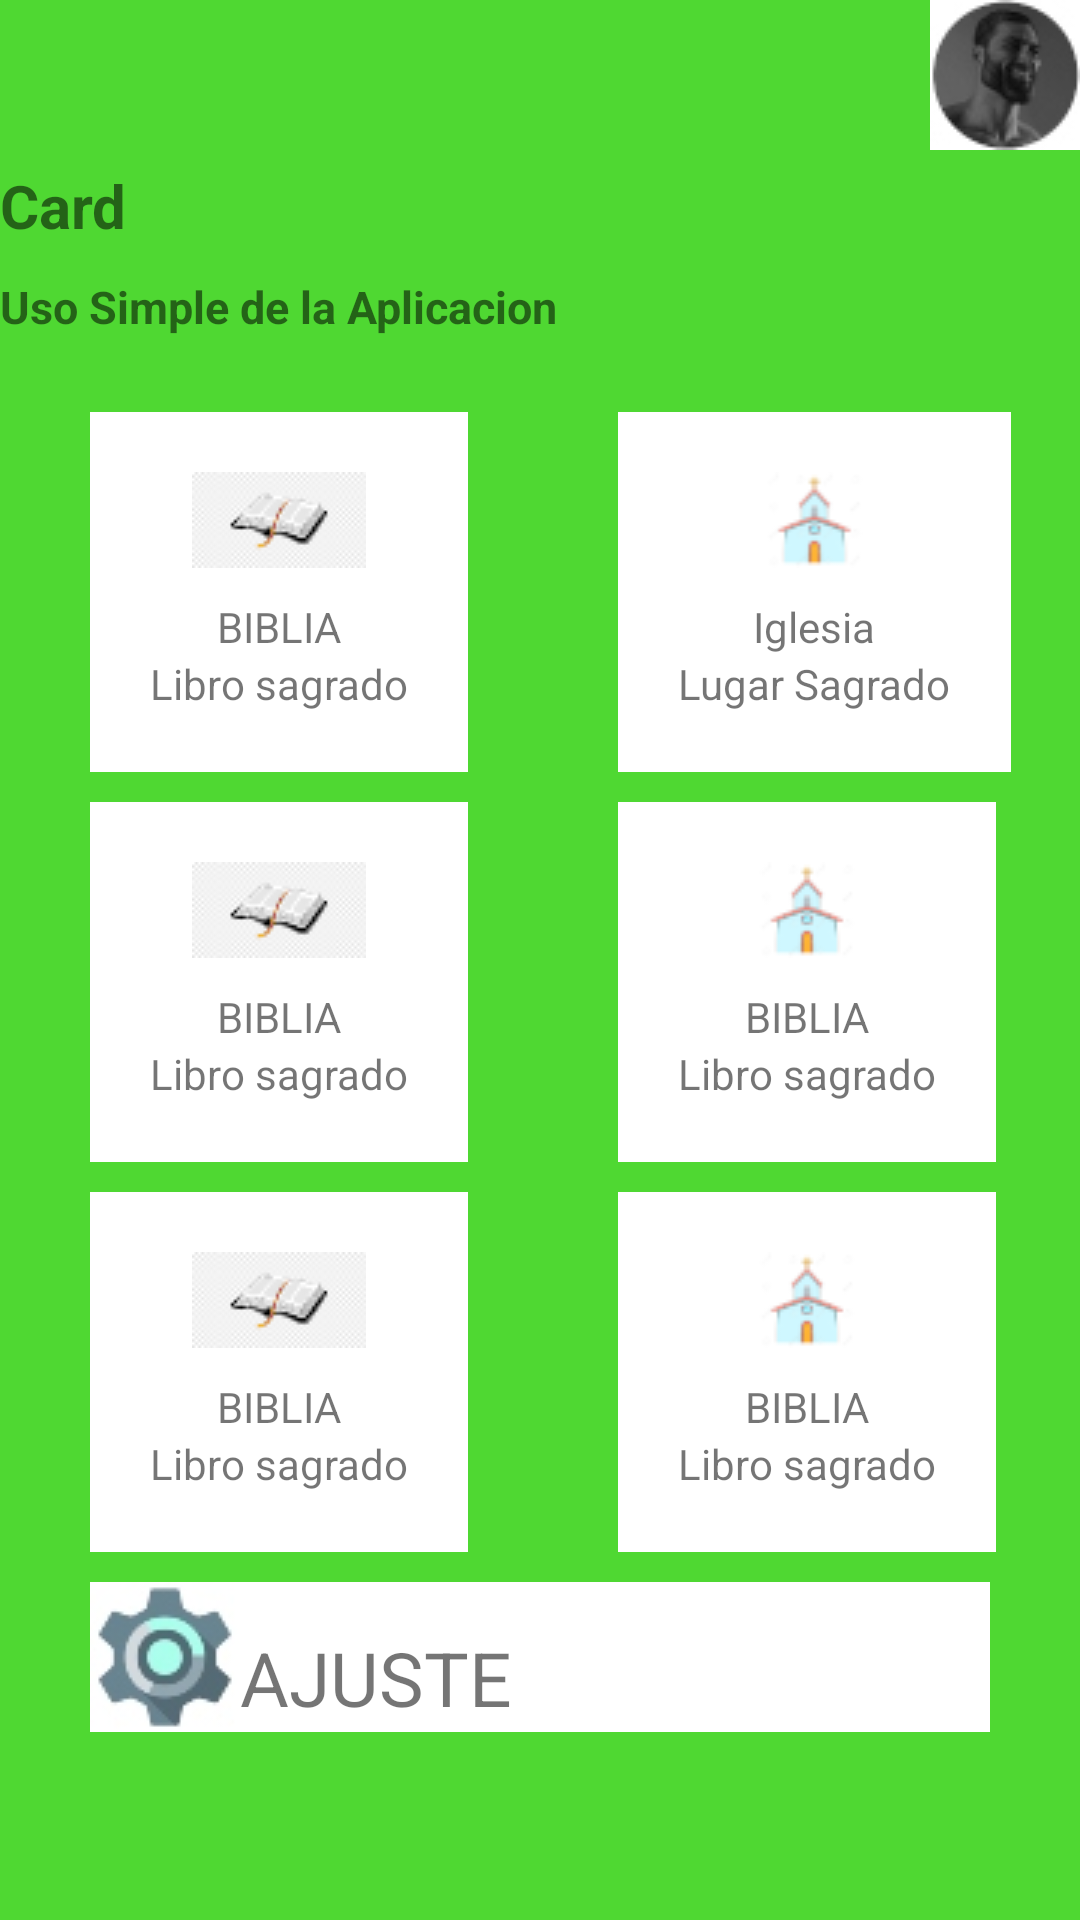

Named icons in this screenshot (1080 x 1920) and their centers, (x,y):
settings: (165,1657)
